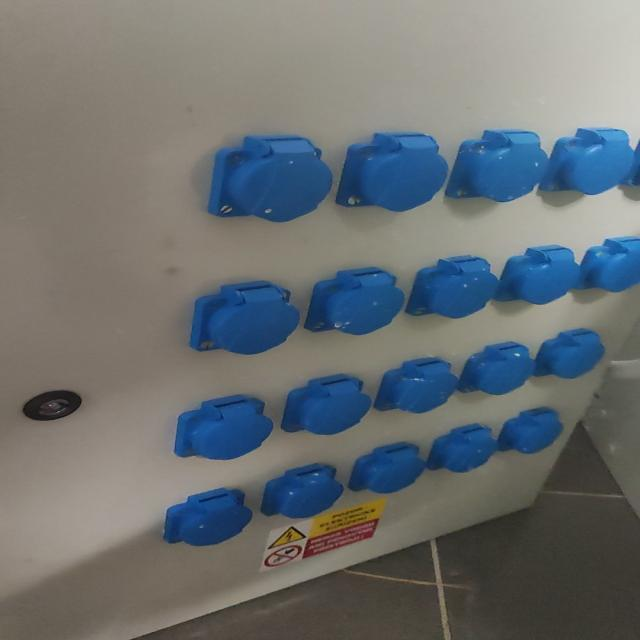house plug covered: (205, 136, 333, 224), (338, 133, 450, 215), (189, 282, 300, 358), (446, 130, 550, 203), (303, 267, 405, 336), (538, 127, 633, 196), (174, 394, 273, 460), (405, 255, 500, 319), (281, 374, 372, 435), (161, 489, 252, 549), (493, 246, 580, 305), (373, 357, 457, 414), (260, 464, 344, 519), (460, 341, 536, 395), (348, 442, 426, 494), (571, 235, 640, 292), (425, 423, 496, 473), (535, 330, 604, 379), (495, 408, 565, 455)
